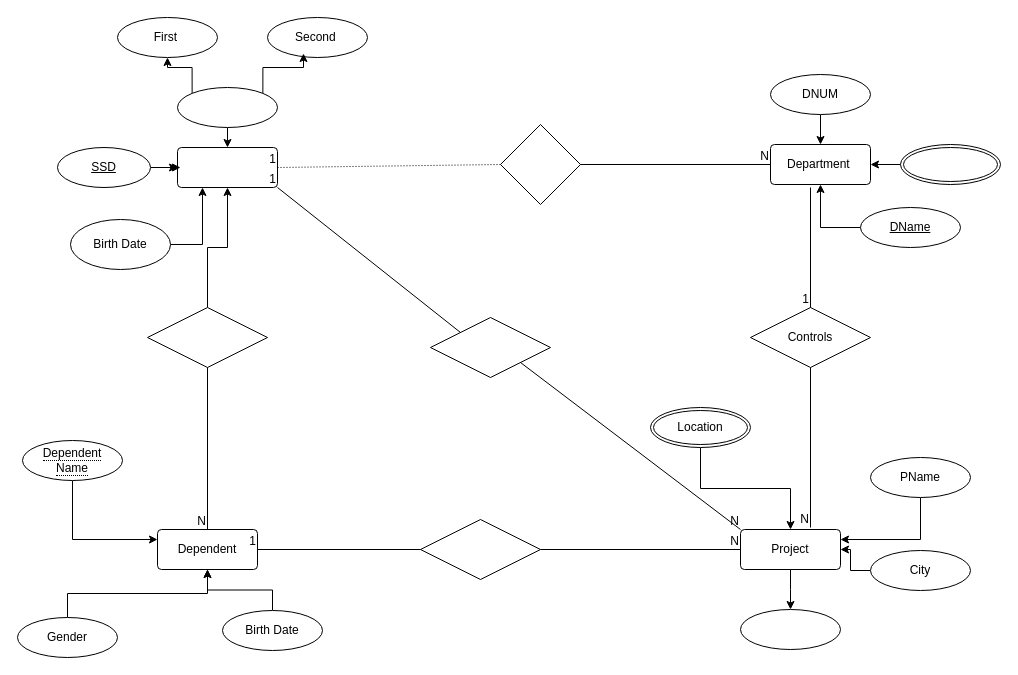
Image size: 1018x675. Some labels were removed from this diagram. Here are the shapes that lost their labels. From the top down, the centre of each, then its label:
At (227,107): "Name".
At (227,167): "Employee".
At (540,164): "works_in".
At (950,164): "Locations".
At (207,337): "has".
At (490,347): "Supervises".
At (480,549): "Works_on".
At (790,629): "PNumber".
